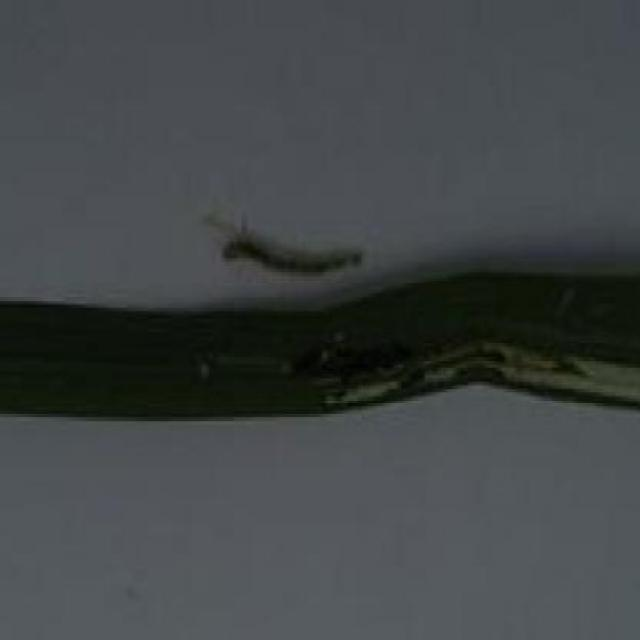leaf-folder: (204, 198, 438, 291)
